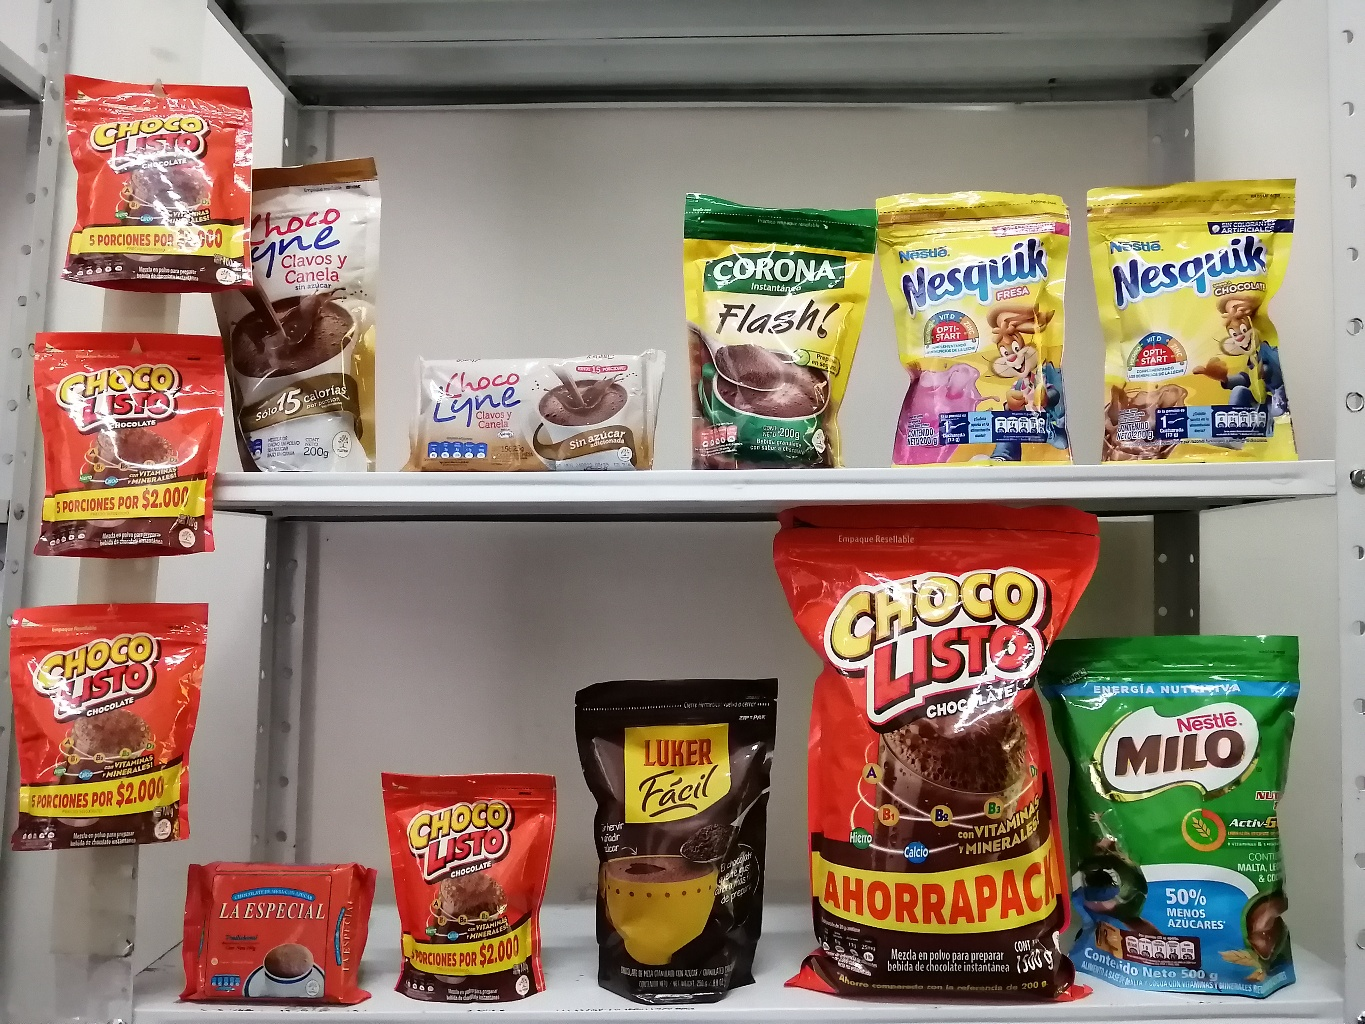COL0170103DYP1,500: (739, 509, 1107, 1015)
COL0170205DYP50000: (1042, 624, 1309, 986)
COL0170303DYP20000: (1087, 170, 1311, 466)
COL0170305DYP20000: (877, 184, 1092, 475)
